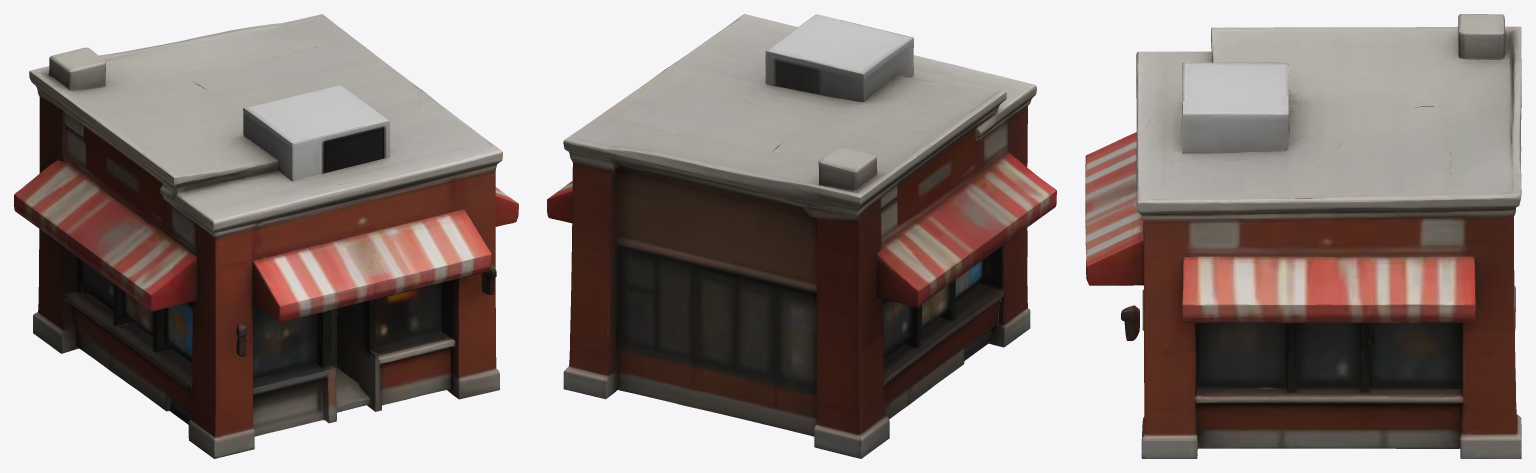
3 views of the same model, side by side, from view 1: azimuth 30°, elevation 25°; view 2: azimuth 150°, elevation 25°; view 3: azimuth 270°, elevation 25° (orthographic). The views are drawn at different scales.
Visible parts, largest first — view 1: world; view 2: world; view 3: world.
Part boxes in pixels (left/top/right/bottom): world: left=14, top=14, right=518, bottom=458; world: left=547, top=14, right=1056, bottom=458; world: left=1085, top=14, right=1521, bottom=458.
Size of the model in its own units: 1 by 0.7245 by 0.9588.
Materials: 1 (1 with a texture image).
